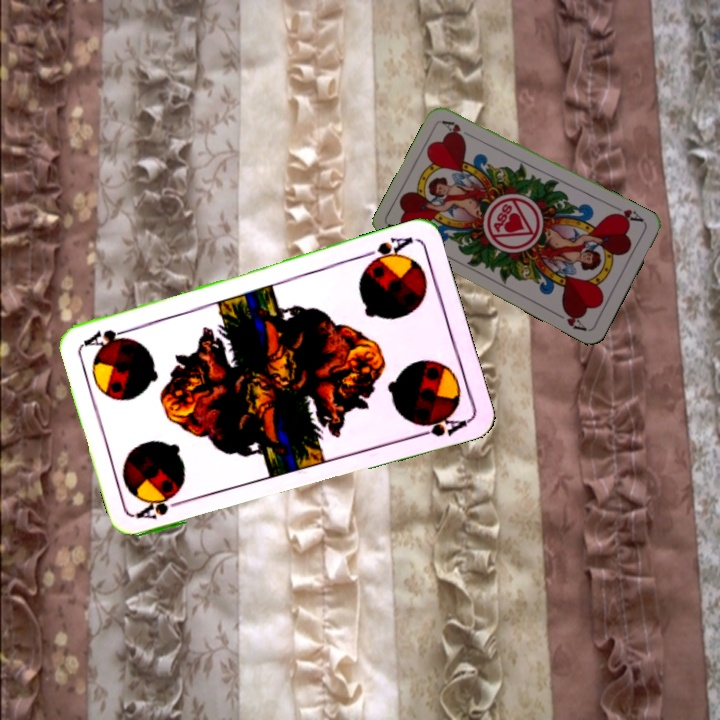HA: (608, 201, 647, 226)
SA: (358, 232, 416, 269), (133, 492, 191, 523)
